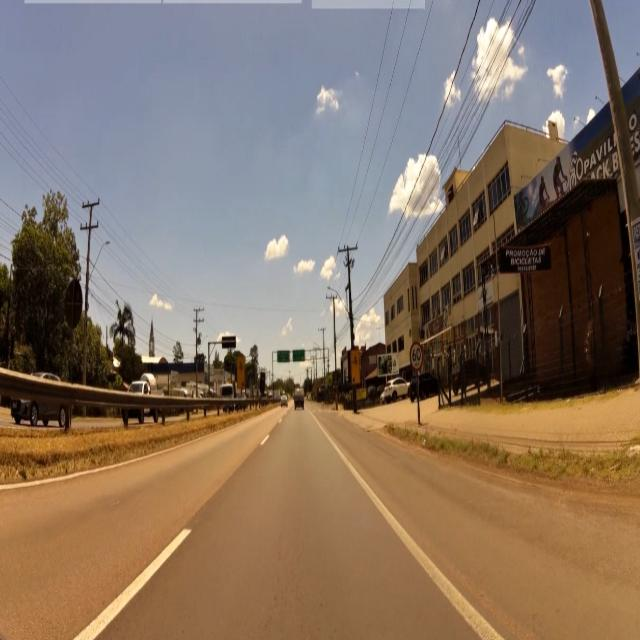R-19: (410, 343, 423, 370)
